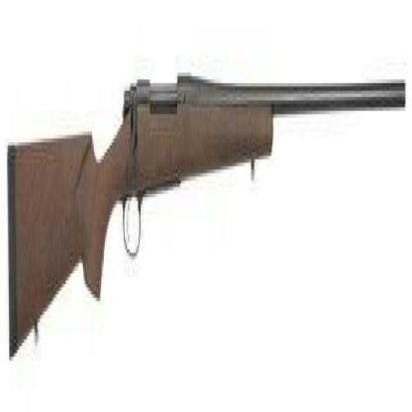Gun: (0, 17, 410, 368)
